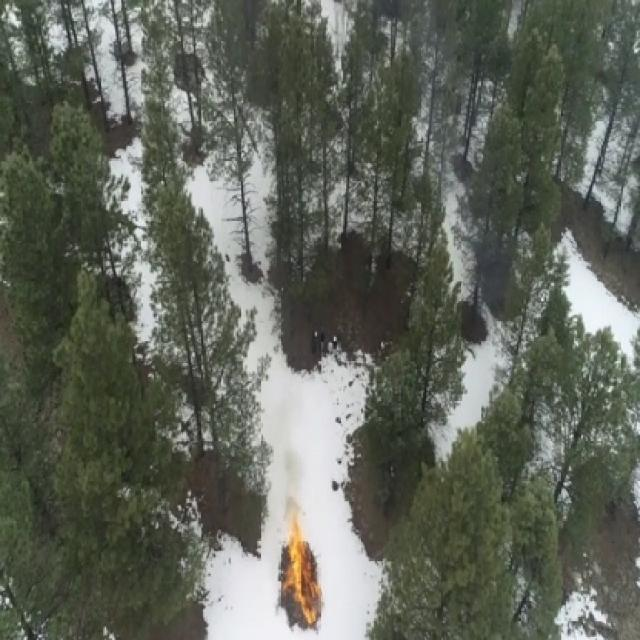Fire: (275, 502, 323, 630)
